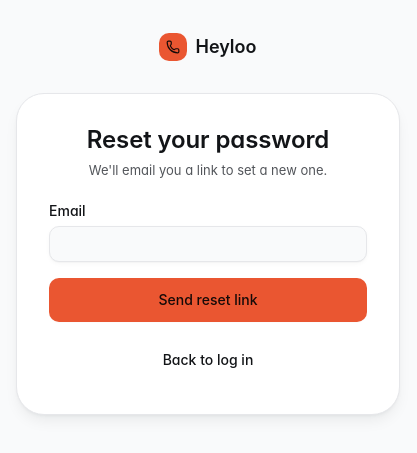
Test: /reset-password (AUTH-10, AUTH-04) › tells a rate-limited visitor to wait instead of claiming a send
Type "owner@example.com" into the field labelled "Email" at (208, 244), box top-left (49, 226), bottom-right (367, 262)
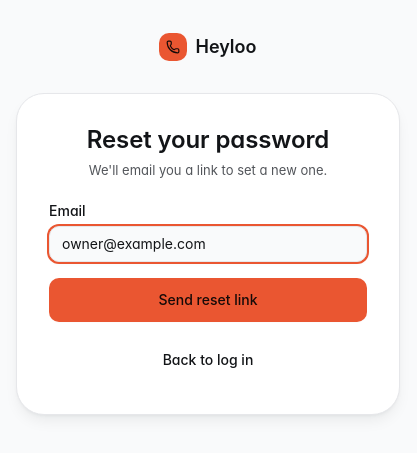
Click the button "Send reset link" at (208, 300), box top-left (49, 278), bottom-right (367, 322)
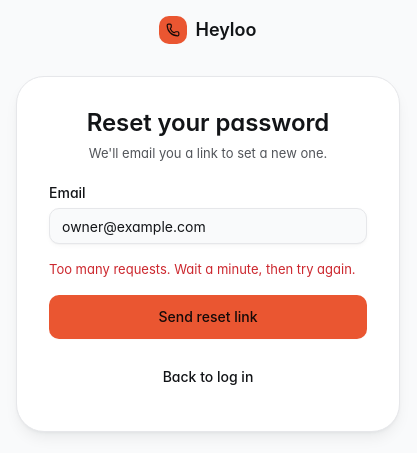
Now the message shows "Too many requests", box top-left (49, 261), bottom-right (356, 277)
